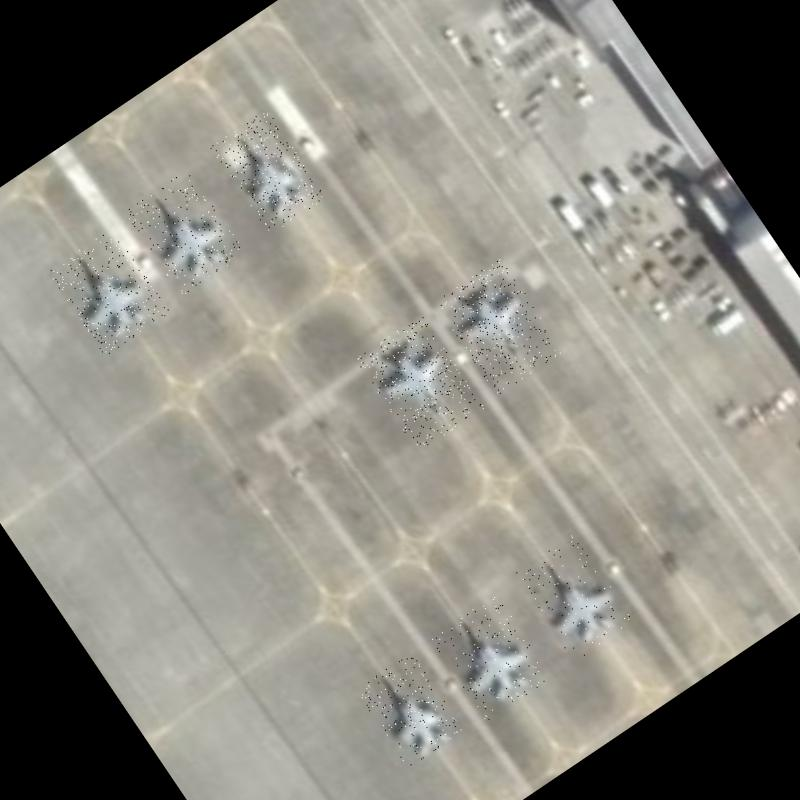A16: (434, 257, 564, 396), (355, 314, 485, 453), (428, 592, 553, 722), (48, 226, 170, 356), (514, 531, 635, 662), (125, 168, 246, 297), (210, 108, 328, 236), (356, 652, 466, 770)
